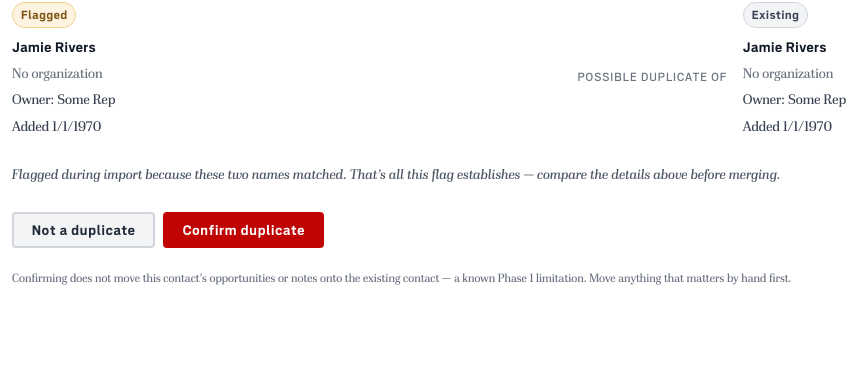
Test case: DuplicateRow › surfaces an error and re-enables the buttons if the write fails
Click the button "Not a duplicate" at [83, 230], box [12,212,155,248]
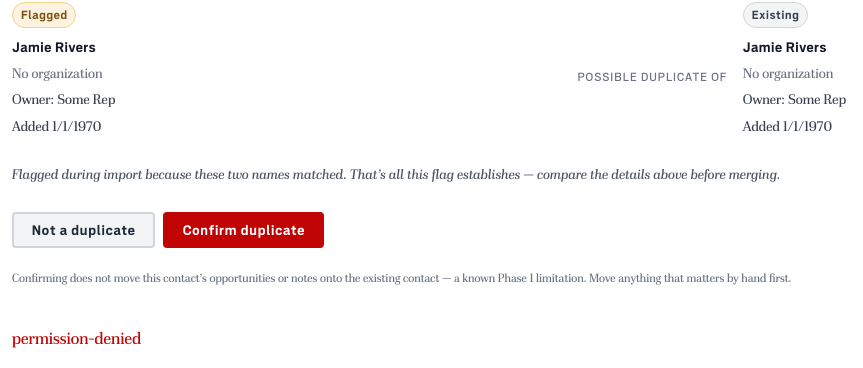
Check: the text "permission-denied" is shown, box [12,324,141,352]
